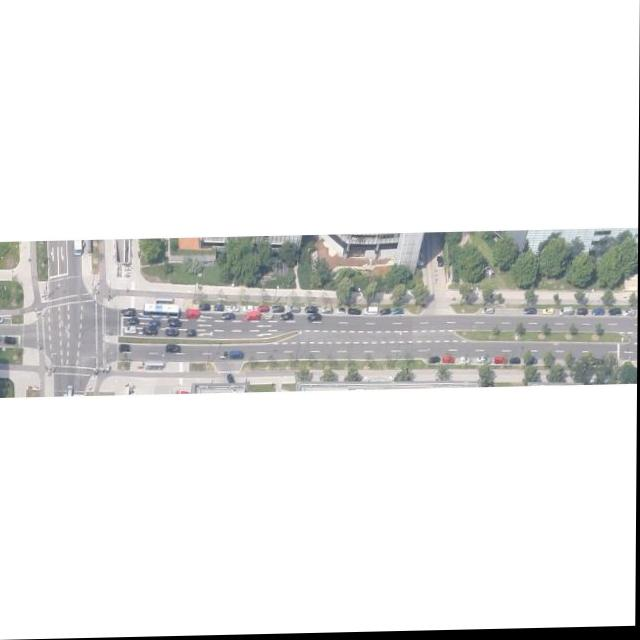vehicle: (186, 309, 200, 320), (142, 327, 158, 336), (560, 308, 574, 318), (246, 313, 260, 322), (308, 314, 322, 323), (364, 308, 378, 317), (484, 269, 495, 280), (231, 352, 245, 360), (120, 309, 136, 316), (167, 320, 181, 328), (5, 336, 17, 345), (592, 310, 604, 319), (120, 344, 132, 353), (166, 329, 179, 337), (478, 358, 492, 365), (228, 374, 236, 386), (166, 347, 182, 353), (430, 358, 442, 366), (609, 311, 621, 319), (288, 307, 300, 315), (228, 305, 240, 313), (624, 311, 635, 319), (128, 318, 140, 325), (186, 331, 198, 338), (280, 315, 294, 321), (496, 359, 508, 366), (482, 309, 494, 316), (349, 309, 361, 316), (306, 308, 318, 315), (577, 311, 587, 319), (438, 258, 445, 269), (222, 314, 234, 320), (524, 311, 536, 317), (392, 310, 404, 316), (272, 308, 284, 314), (126, 327, 136, 334), (460, 358, 470, 365), (322, 309, 332, 316), (259, 307, 269, 314), (200, 305, 210, 312), (264, 314, 273, 321), (150, 321, 160, 327), (444, 359, 454, 365), (511, 360, 521, 366), (543, 310, 553, 316), (381, 310, 391, 316), (336, 309, 346, 315), (243, 307, 253, 313), (214, 306, 224, 312), (221, 353, 229, 359)
